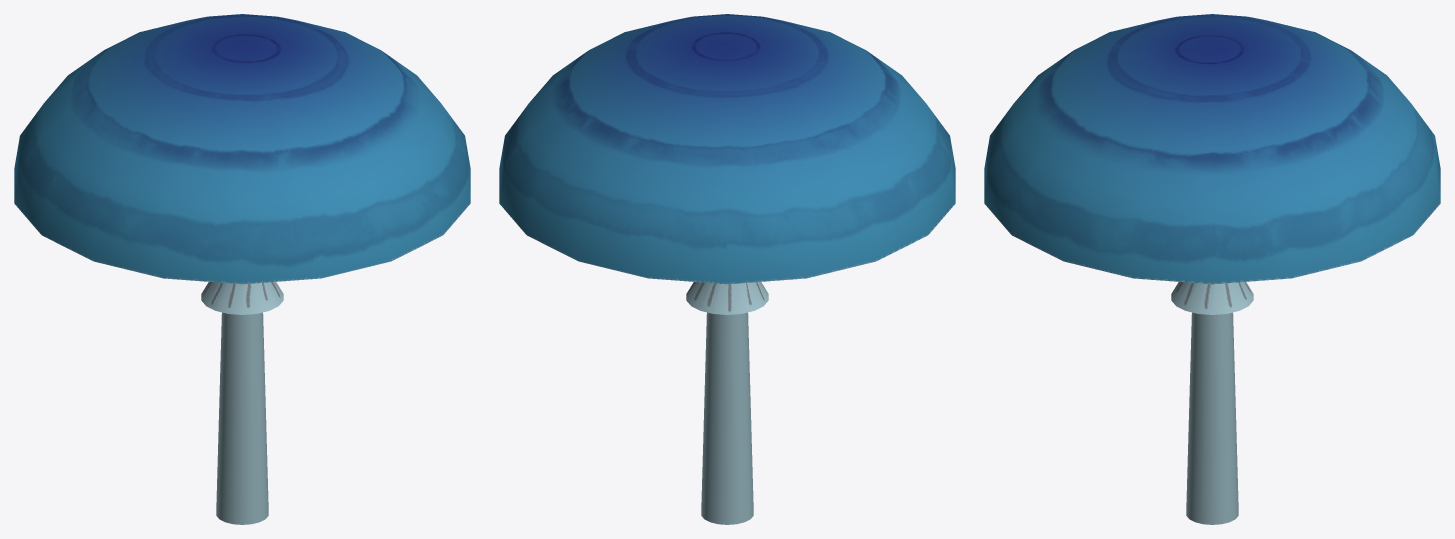
Rendered from mushroom1.fbx.
3 views of the same model, side by side, from view 1: azimuth 30°, elevation 25°; view 2: azimuth 150°, elevation 25°; view 3: azimuth 270°, elevation 25° (orthographic).
Visible parts, largest first — view 1: Mushroom1; view 2: Mushroom1; view 3: Mushroom1.
Part boxes in pixels (x1,y1,x2,y2): Mushroom1: (14,14,470,524); Mushroom1: (499,14,955,524); Mushroom1: (984,14,1440,524).
Bounding box in the file's own units: 40.27 × 44.73 × 39.66.
Materials: 1 (1 with a texture image).
